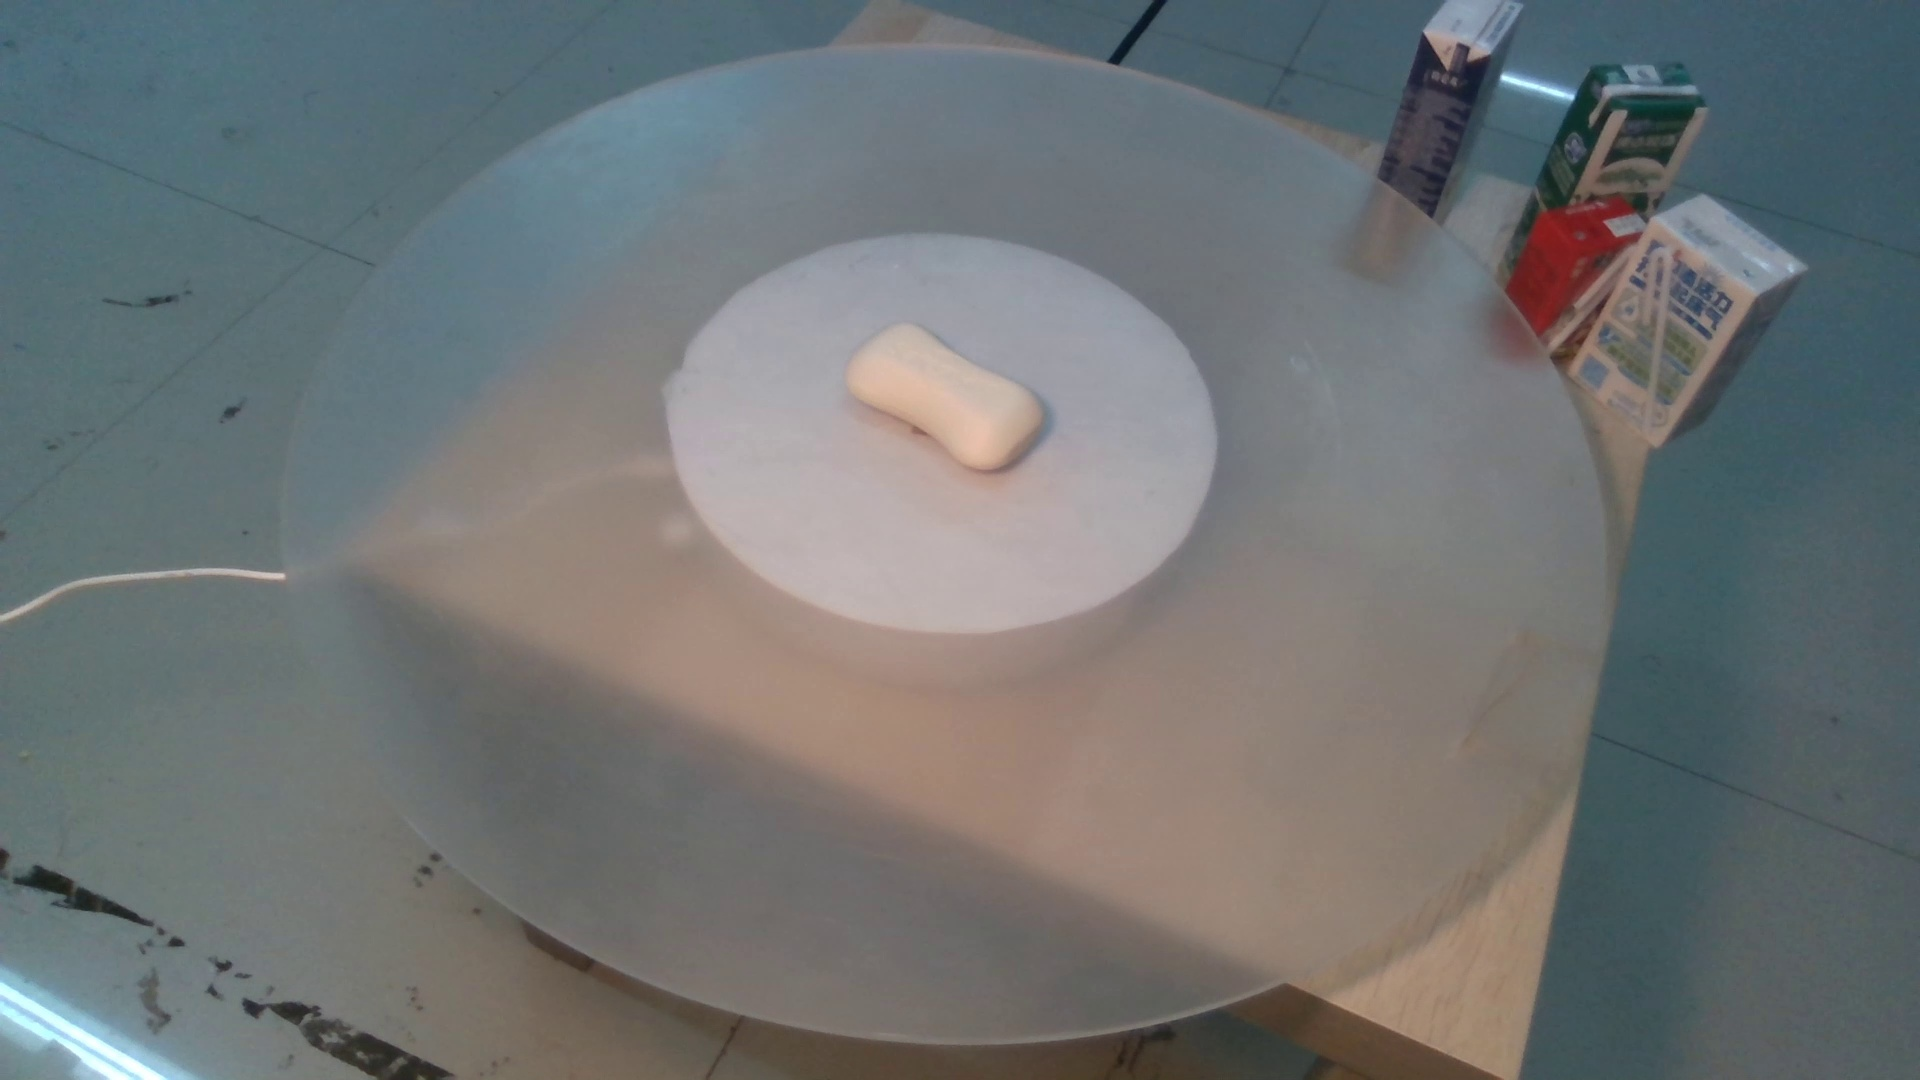CA003_1: (836, 314, 1065, 483)
